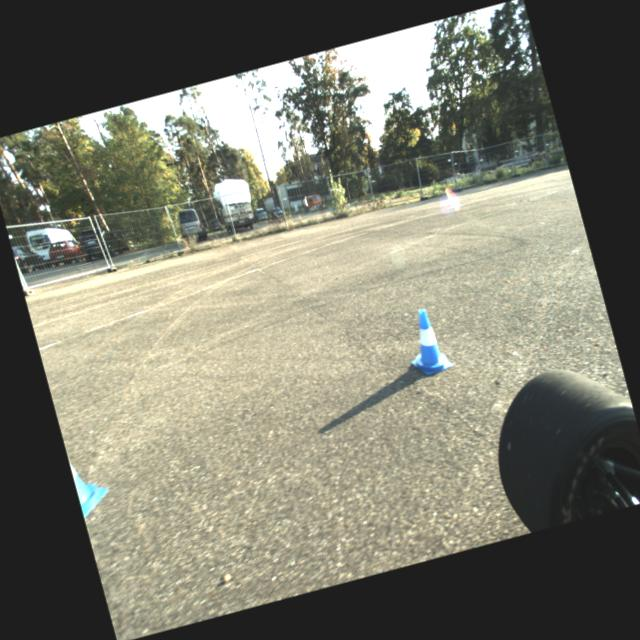blue_cone: (398, 304, 453, 378), (69, 453, 114, 518)
